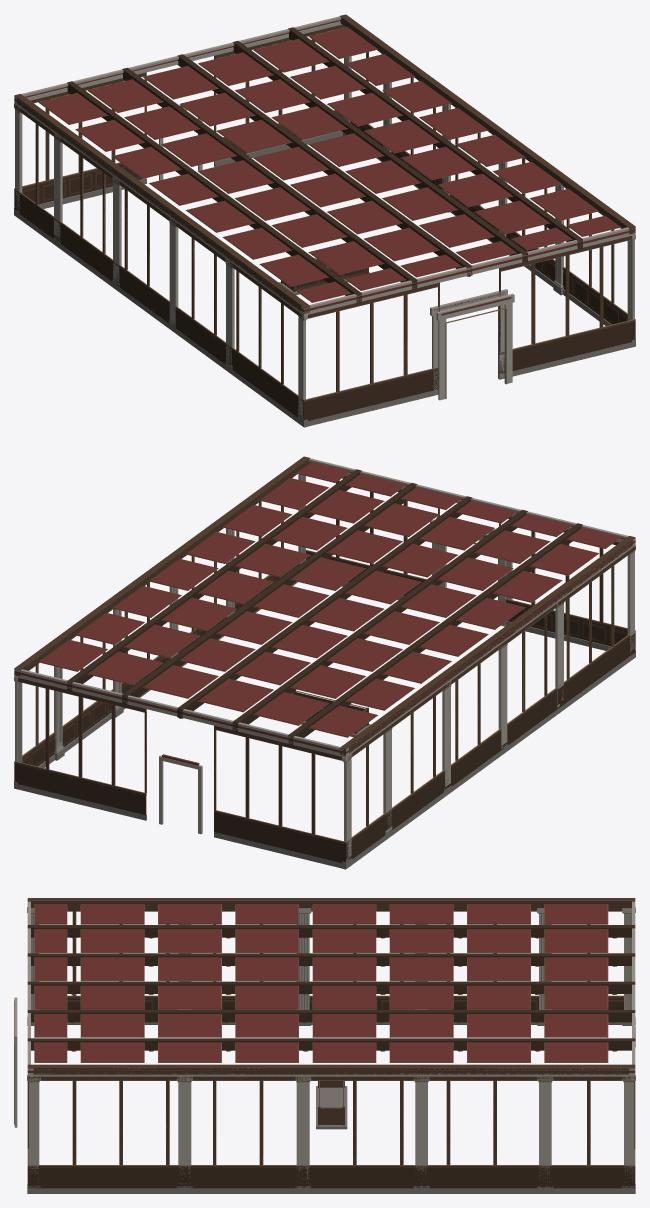
File: wrap.glb
The picture shows the model from 3 angles, top to bottom: view 1: azimuth 30°, elevation 25°; view 2: azimuth 150°, elevation 25°; view 3: azimuth 270°, elevation 25°; orthographic projection. The views are drawn at different scales.
Visible parts, largest first — view 1: m8_wrap; view 2: m8_wrap; view 3: m8_wrap.
Boxes of the visible parts, box(x1,y1,x2,y2) form: m8_wrap: box(14, 14, 635, 427); m8_wrap: box(14, 456, 635, 869); m8_wrap: box(14, 898, 635, 1193).
Bounding box in the file's own units: 15.6 × 5.4 × 24.15.
